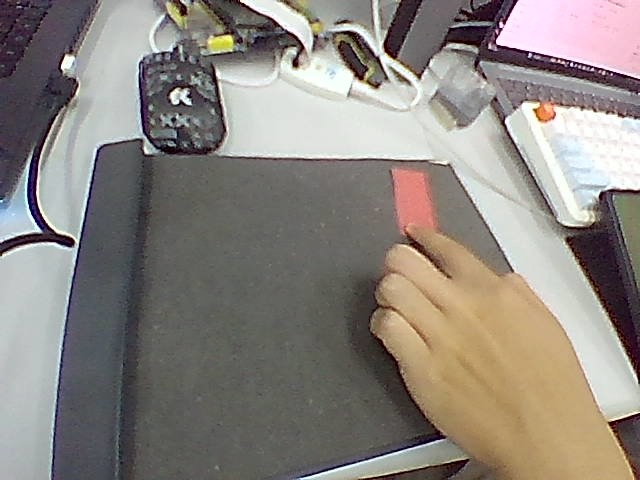card: (391, 168, 436, 232)
